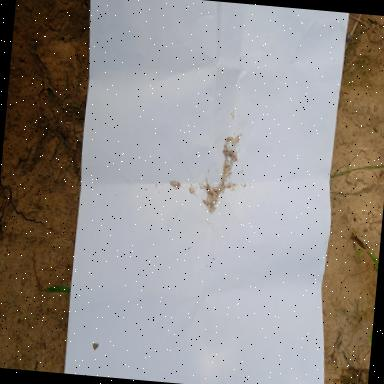pbw: (167, 180, 183, 190), (231, 134, 240, 150), (228, 152, 241, 162), (188, 187, 198, 198), (200, 198, 210, 207), (222, 149, 230, 159), (223, 159, 229, 170), (212, 190, 219, 199), (210, 204, 216, 214), (224, 166, 231, 174), (210, 195, 218, 202), (224, 172, 231, 179), (226, 136, 233, 142)
